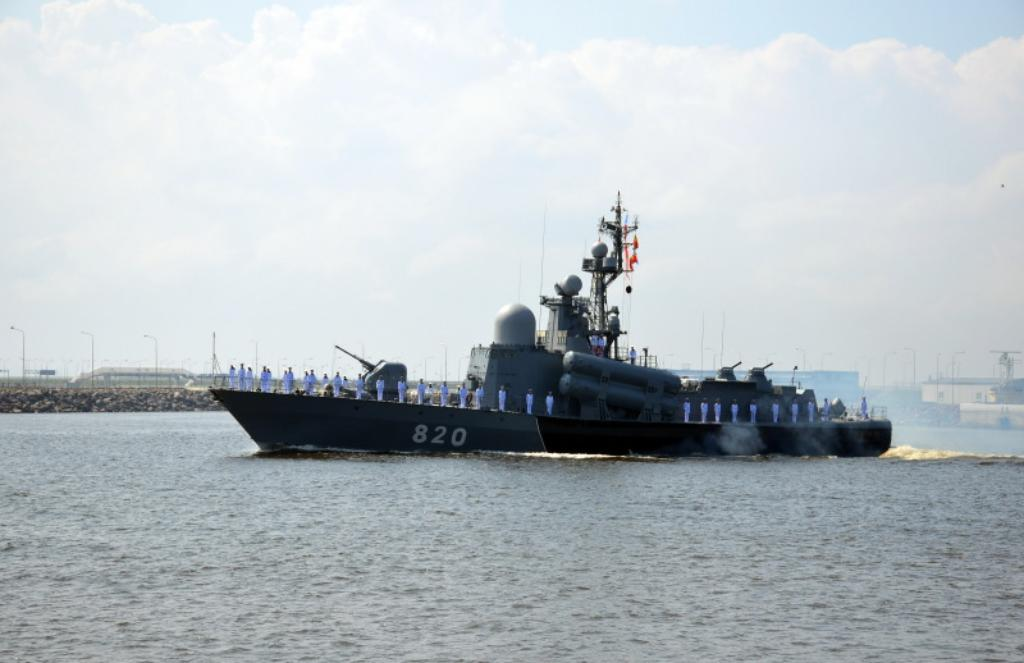Warship: (208, 189, 892, 461)
